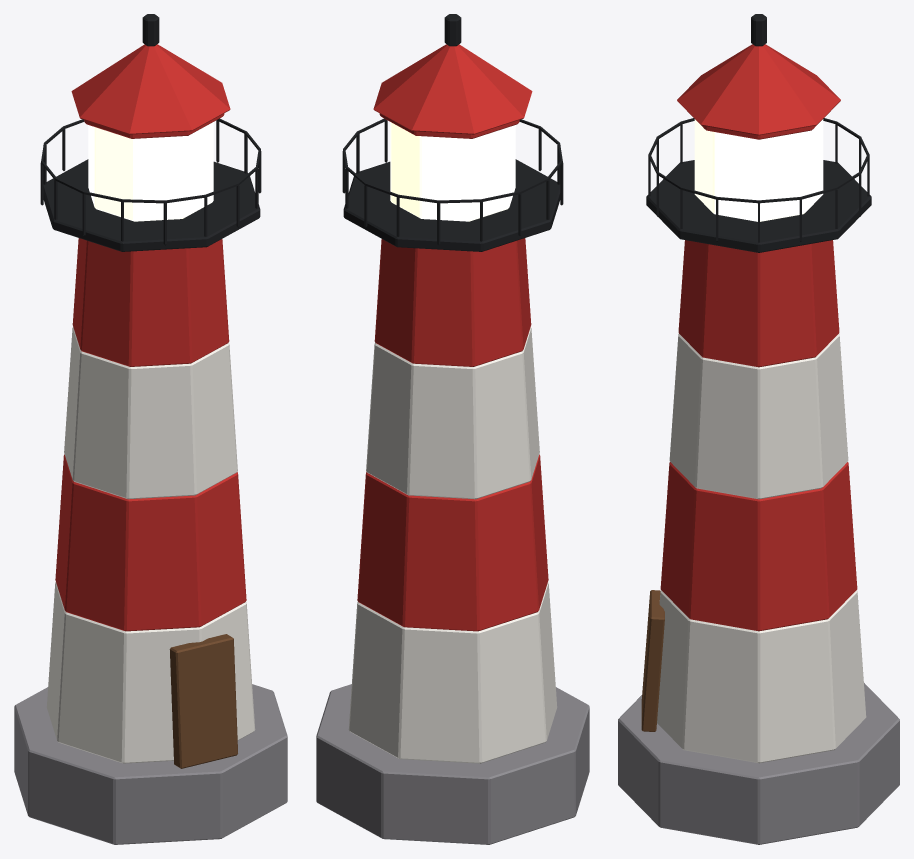
Rendered from fyr.glb.
3 views of the same model, side by side, from view 1: azimuth 30°, elevation 25°; view 2: azimuth 150°, elevation 25°; view 3: azimuth 270°, elevation 25° (orthographic).
Visible parts, largest first — view 1: fyr; view 2: fyr; view 3: fyr.
Part boxes in pixels (x1,y1,x2,y2): fyr: (14, 14, 287, 844); fyr: (316, 14, 589, 844); fyr: (618, 14, 899, 844).
Bounding box in the file's own units: 3.78 × 11.4 × 3.78.
